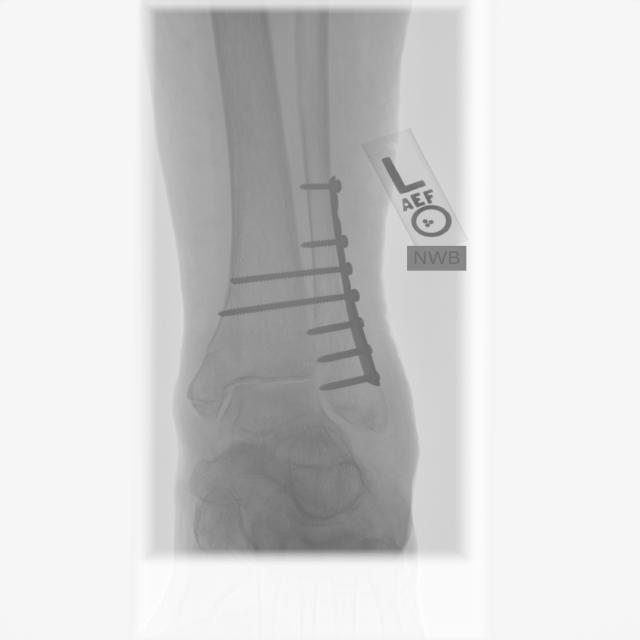fracture: (242, 153, 401, 403)
